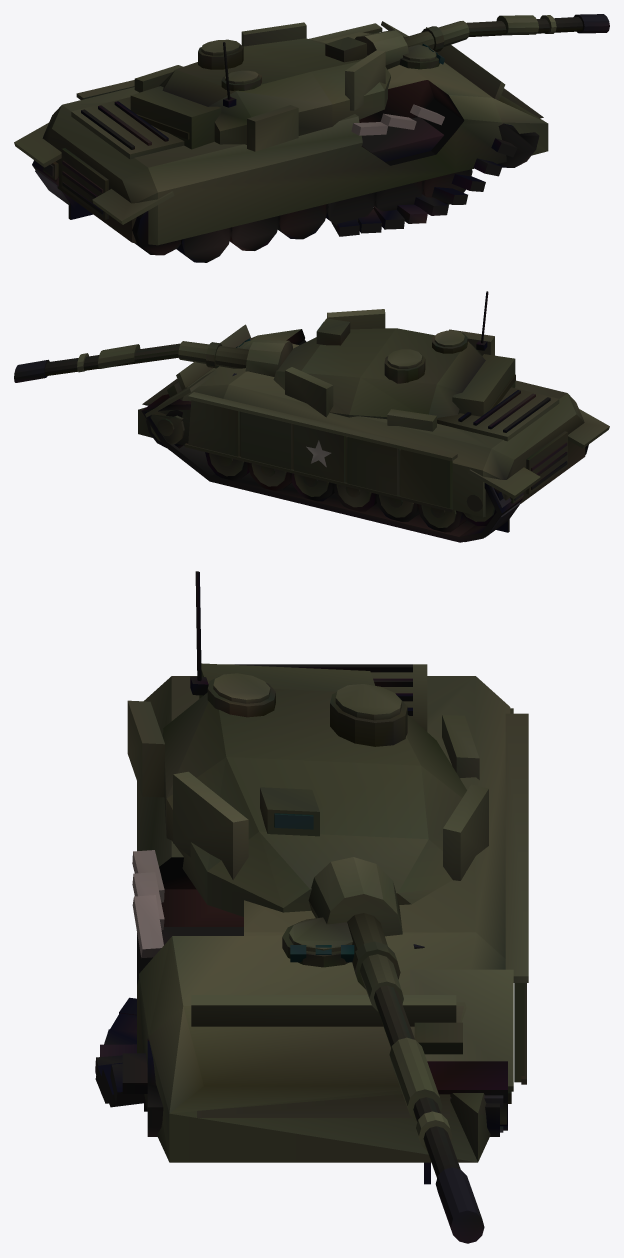
The model's file is veh.tank.wrecked.lod1.glb.
The picture shows the model from 3 angles, top to bottom: view 1: azimuth 30°, elevation 25°; view 2: azimuth 150°, elevation 25°; view 3: azimuth 270°, elevation 25°; orthographic projection. The views are drawn at different scales.
Visible parts, largest first — view 1: body, turret, gun; view 2: body, turret, gun; view 3: body, turret, gun.
Boxes of the visible parts, x1,y1,x2,y2 form: body: (14, 21, 548, 262); turret: (130, 22, 390, 151); gun: (355, 14, 609, 69); body: (138, 324, 609, 542); turret: (273, 291, 515, 431); gun: (14, 339, 292, 382); body: (95, 664, 528, 1184); turret: (127, 571, 488, 916); gun: (308, 857, 484, 1243).
Size of the model in its own units: 9.62 by 3.29 by 3.54.
